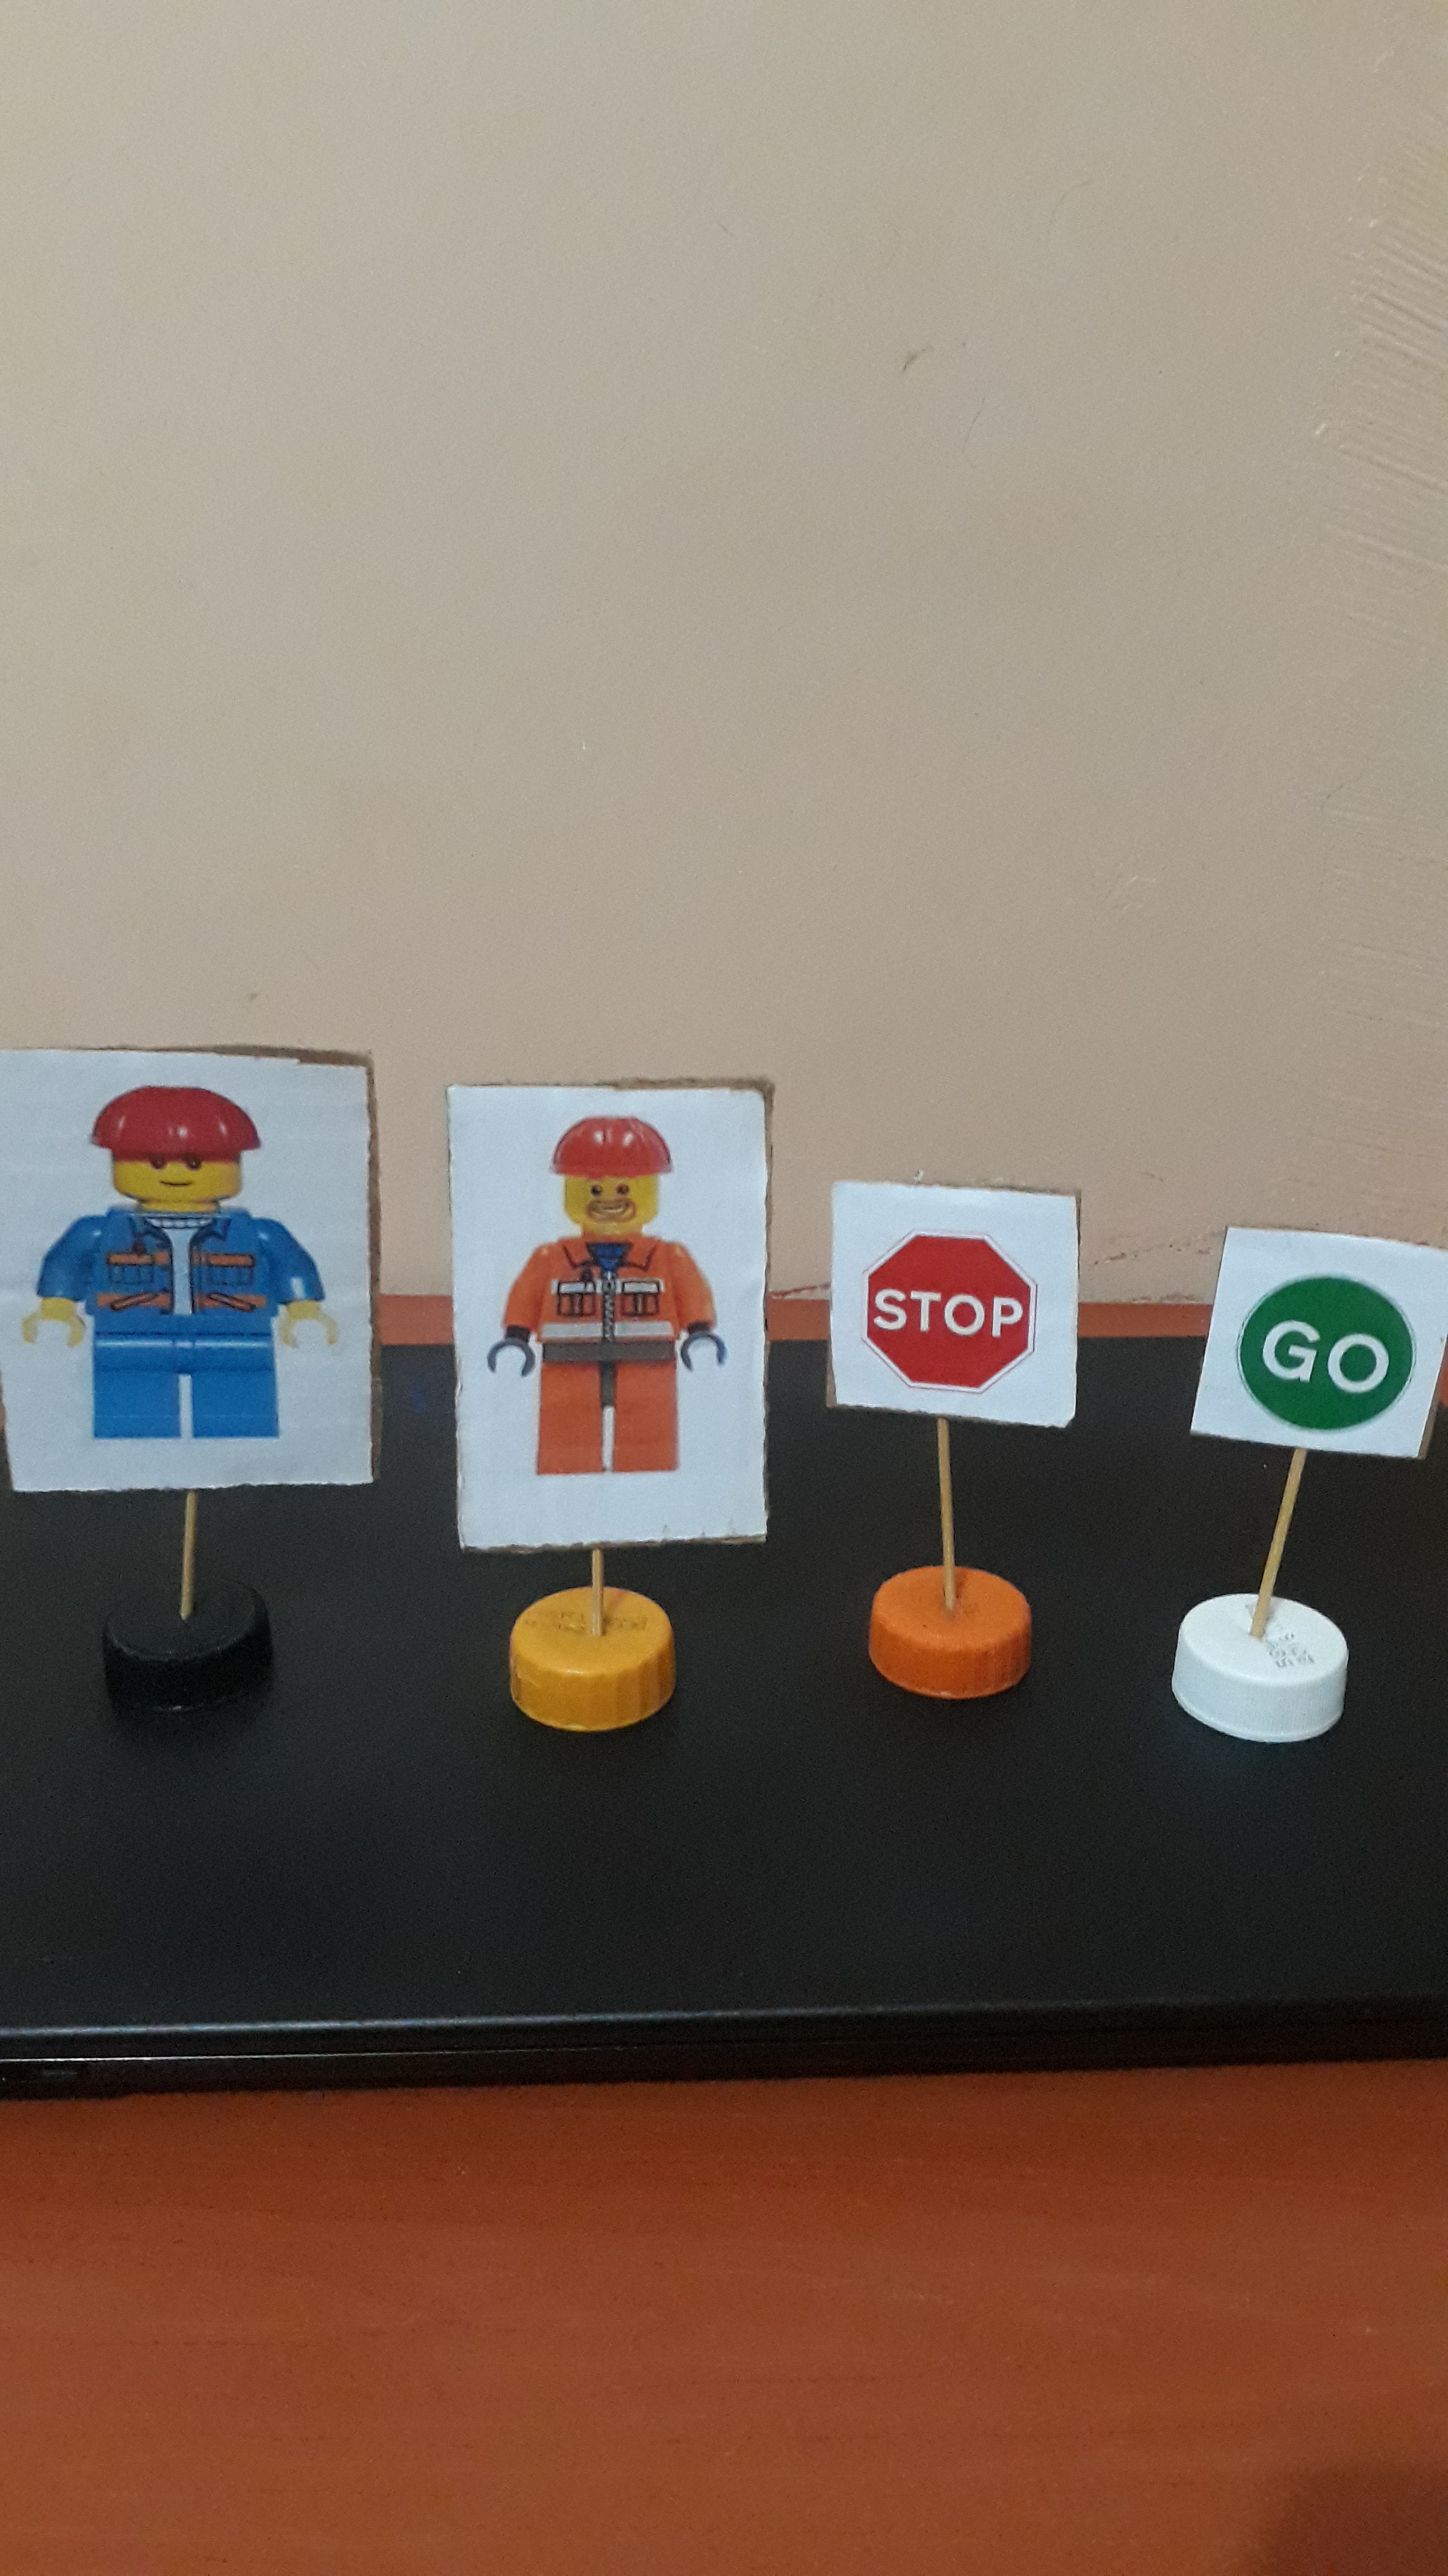go: (1227, 1222, 1442, 1463)
pedestrian: (14, 1058, 353, 1467), (459, 1089, 763, 1534)
stop: (845, 1186, 1075, 1413)
